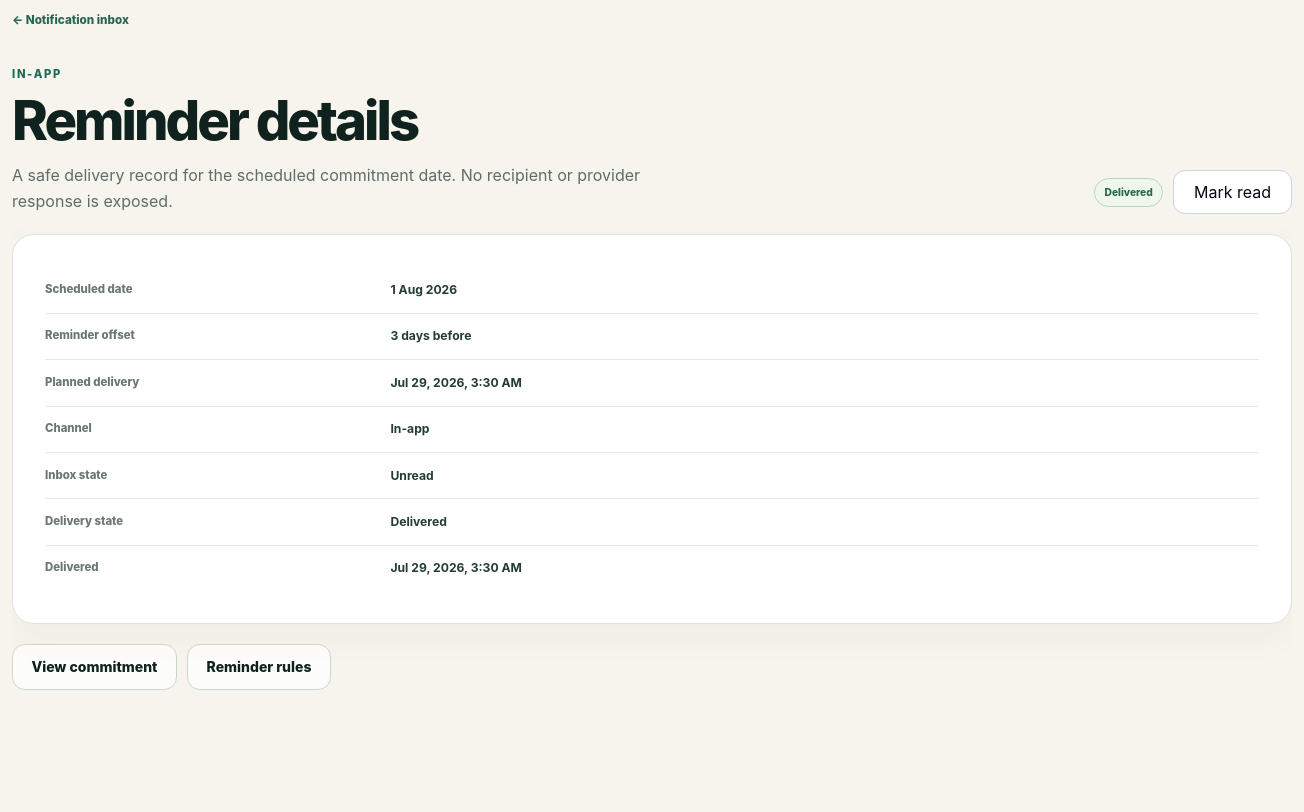
Test: NotificationDetailScreen › marks a notification read with its current quoted version
Click the button "Mark read" at [1232, 192], box left=1173, top=170, right=1292, bottom=214
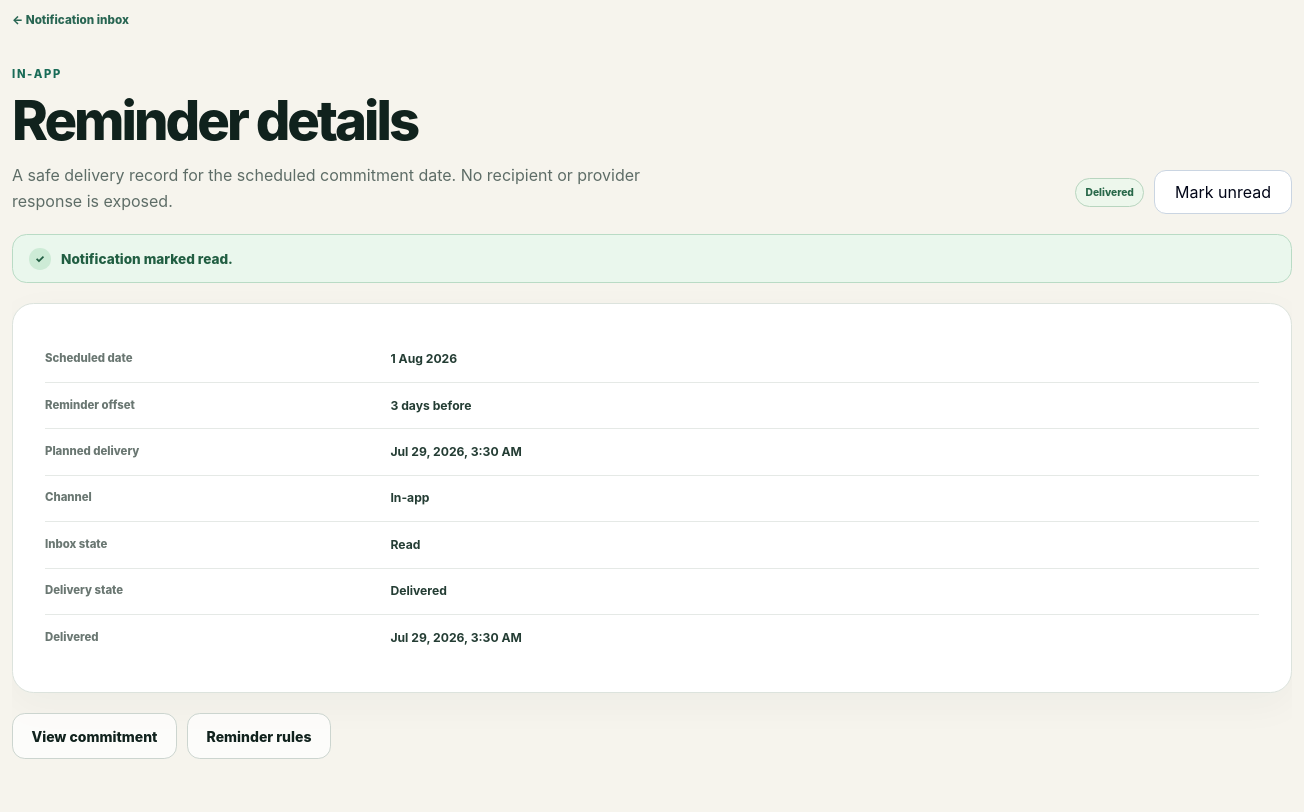
Expected: the text "Notification marked read." is shown, left=61, top=251, right=233, bottom=267
Expected: the button "Mark unread" is shown, left=1154, top=170, right=1292, bottom=214
